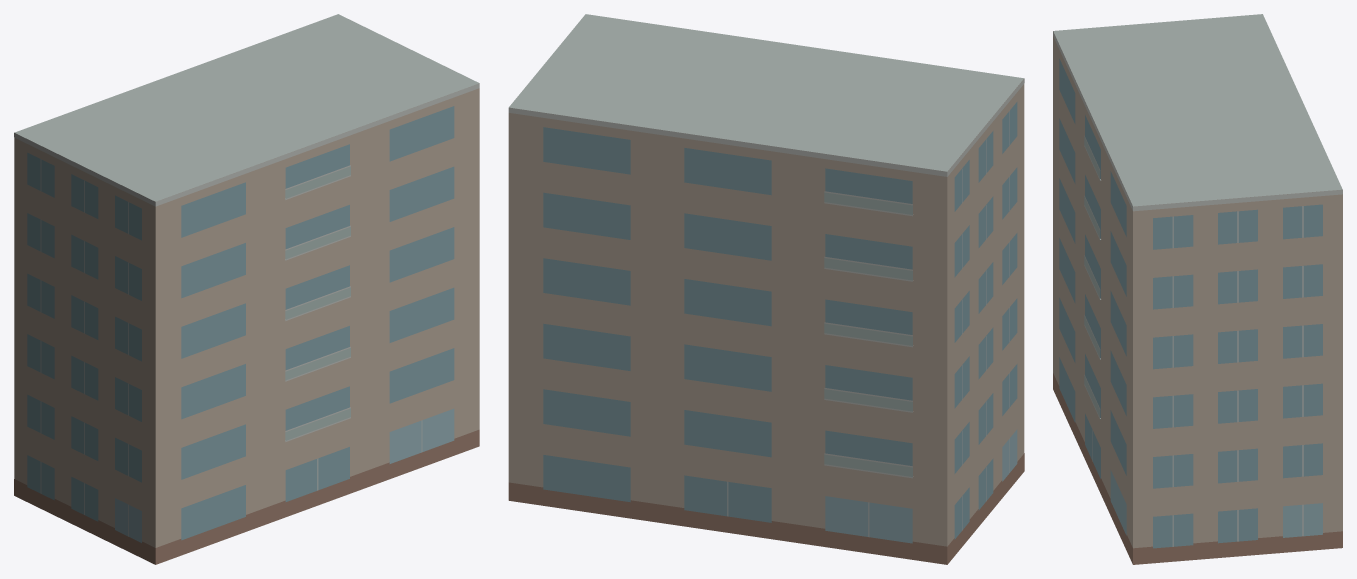
Rendered from survey-upis-32641914.glb.
The picture shows the model from 3 angles, left to right: view 1: azimuth 30°, elevation 25°; view 2: azimuth 150°, elevation 25°; view 3: azimuth 270°, elevation 25°; orthographic projection. The views are drawn at different scales.
Visible parts, largest first — view 1: survey-upis-32641914.tmp; view 2: survey-upis-32641914.tmp; view 3: survey-upis-32641914.tmp.
Part boxes in pixels (x1,y1,x2,y2): survey-upis-32641914.tmp: (14,14,479,564); survey-upis-32641914.tmp: (508,14,1024,564); survey-upis-32641914.tmp: (1053,14,1342,564).
Size of the model in its own units: 21.1 by 18.3 by 13.42.
